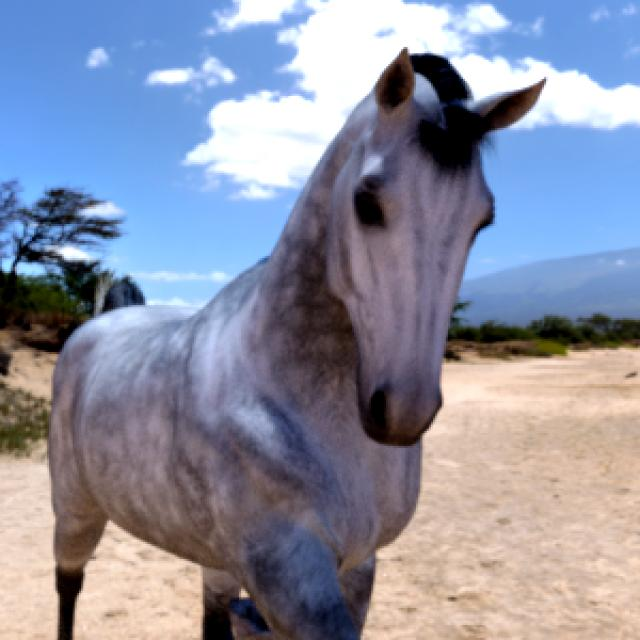horse: (49, 50, 545, 640)
